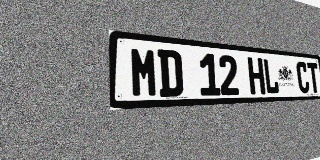1: (198, 53, 221, 96)
2: (218, 54, 239, 95)
C: (296, 61, 310, 93)
D: (157, 49, 184, 97)
H: (247, 57, 265, 95)
L: (263, 58, 279, 94)
M: (130, 47, 159, 98)
T: (307, 62, 320, 93)
